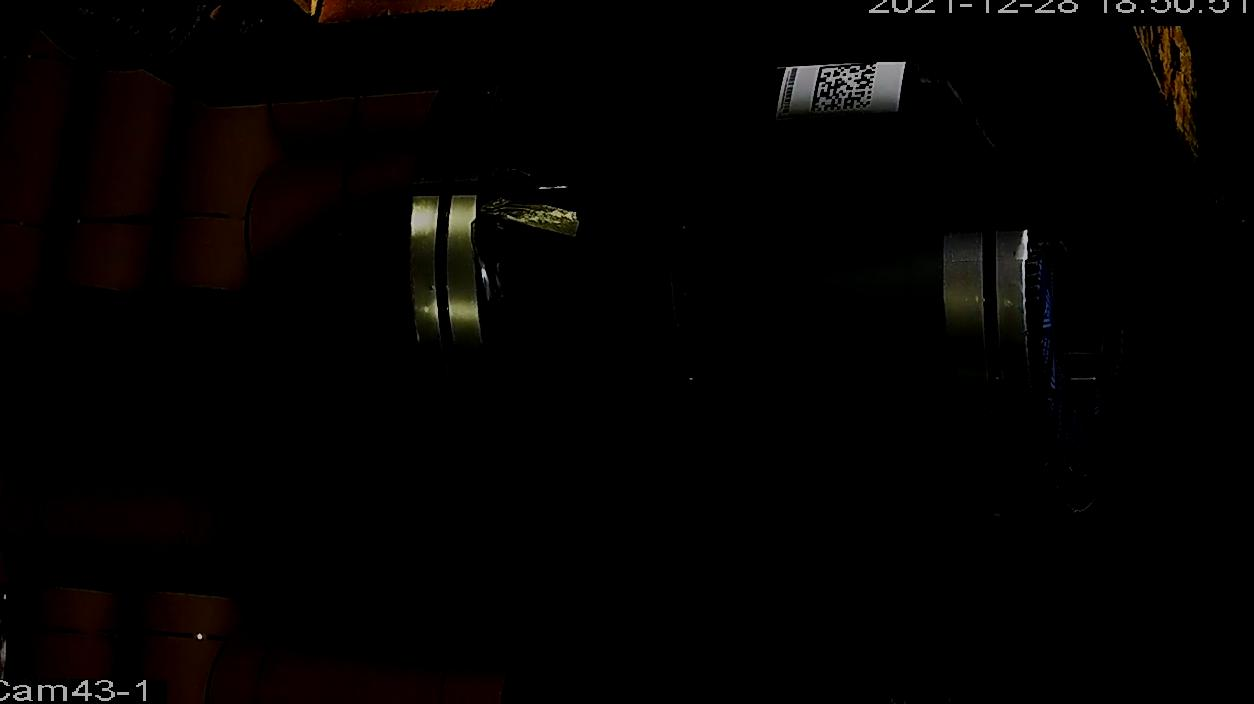data matrix: (809, 59, 879, 117)
